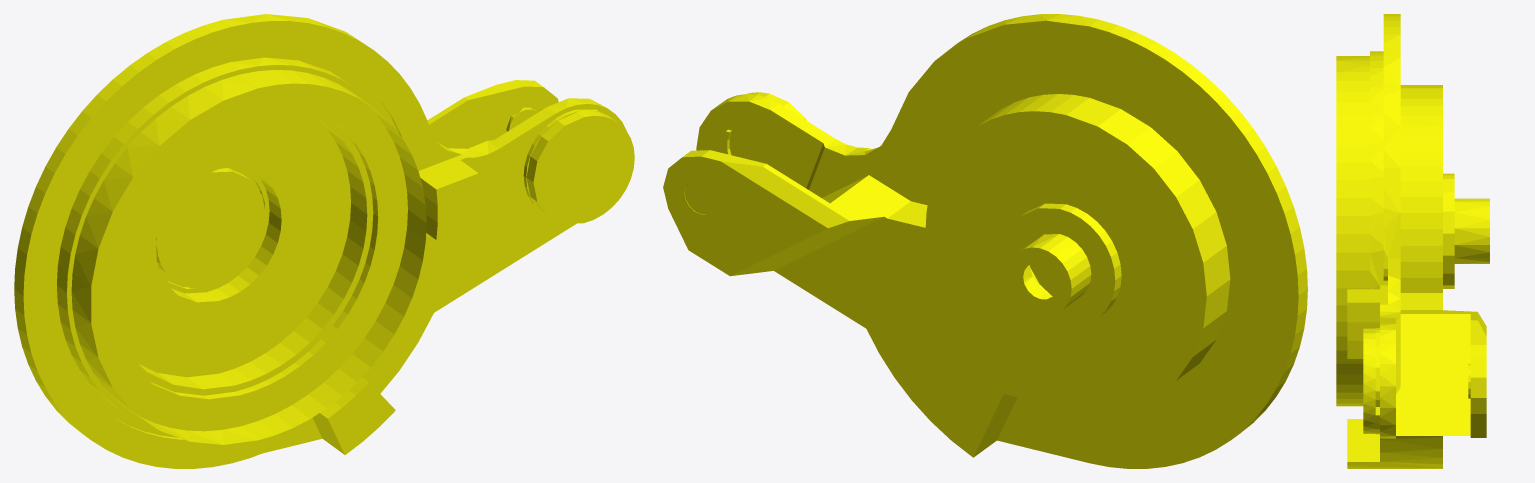
3 views of the same model, side by side, from view 1: azimuth 30°, elevation 25°; view 2: azimuth 150°, elevation 25°; view 3: azimuth 270°, elevation 25° (orthographic). The views are drawn at different scales.
Parts seen in each view (by area): view 1: node; view 2: node; view 3: node.
Part boxes in pixels (left/top/right/bottom): node: left=14, top=14, right=634, bottom=468; node: left=663, top=14, right=1307, bottom=468; node: left=1336, top=14, right=1489, bottom=468.
Size of the model in its own units: 710 by 490 by 208.
